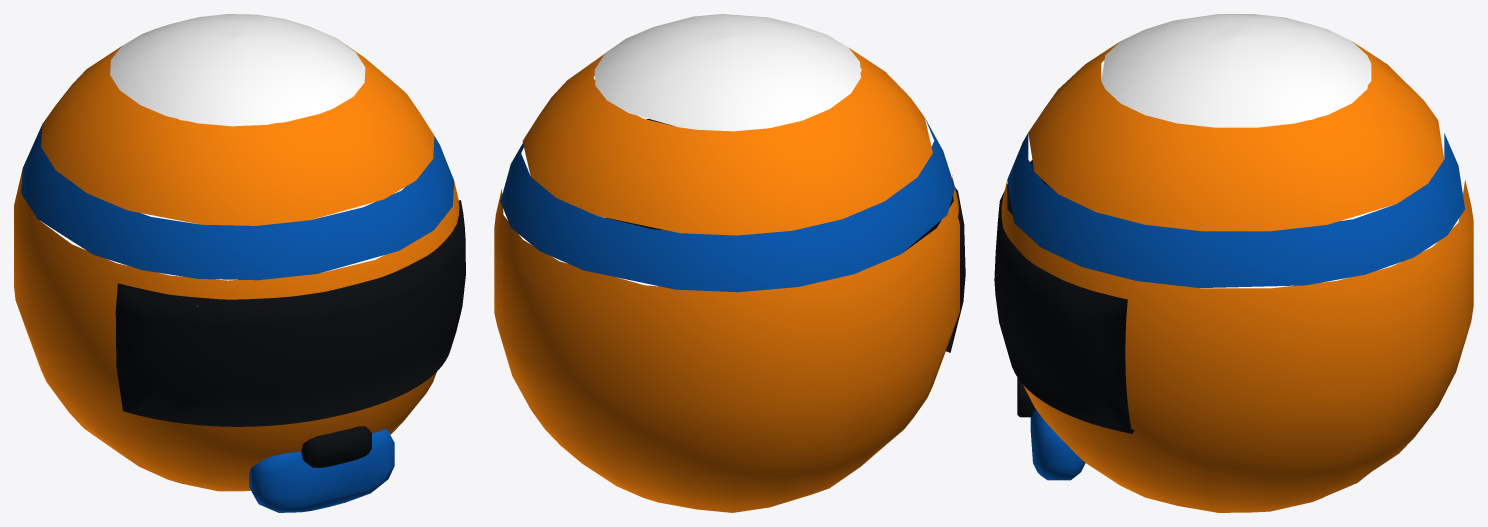
The model's file is helmet.glb.
3 renders of one model, left to right at view 1: azimuth 30°, elevation 25°; view 2: azimuth 150°, elevation 25°; view 3: azimuth 270°, elevation 25°, orthographic. The views are drawn at different scales.
Parts seen in each view (by area): view 1: helmet-materialhelm_shell, helmet-materialvisor, helmet-materialhelm_ring, helmet-materialhelm_cap; view 2: helmet-materialhelm_shell, helmet-materialhelm_ring, helmet-materialhelm_cap, helmet-materialvisor; view 3: helmet-materialhelm_shell, helmet-materialhelm_ring, helmet-materialhelm_cap, helmet-materialvisor.
Boxes of the visible parts, x1=… form: helmet-materialhelm_shell: x1=14, y1=41, x2=459, y2=491; helmet-materialvisor: x1=115, y1=200, x2=465, y2=467; helmet-materialhelm_ring: x1=21, y1=124, x2=454, y2=512; helmet-materialhelm_cap: x1=110, y1=14, x2=365, y2=126; helmet-materialhelm_shell: x1=494, y1=45, x2=959, y2=512; helmet-materialhelm_ring: x1=500, y1=118, x2=954, y2=292; helmet-materialhelm_cap: x1=594, y1=14, x2=860, y2=131; helmet-materialvisor: x1=606, y1=119, x2=965, y2=352; helmet-materialhelm_shell: x1=1001, y1=41, x2=1473, y2=512; helmet-materialhelm_ring: x1=1007, y1=133, x2=1464, y2=480; helmet-materialhelm_cap: x1=1101, y1=14, x2=1371, y2=127; helmet-materialvisor: x1=994, y1=160, x2=1134, y2=433.
Bounding box in the file's own units: 0.3903 × 0.424 × 0.406.
